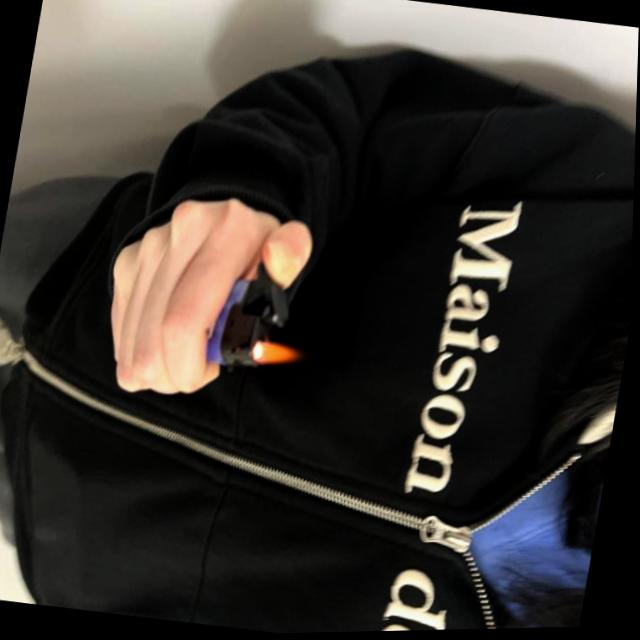helmet: (251, 338, 310, 373)
